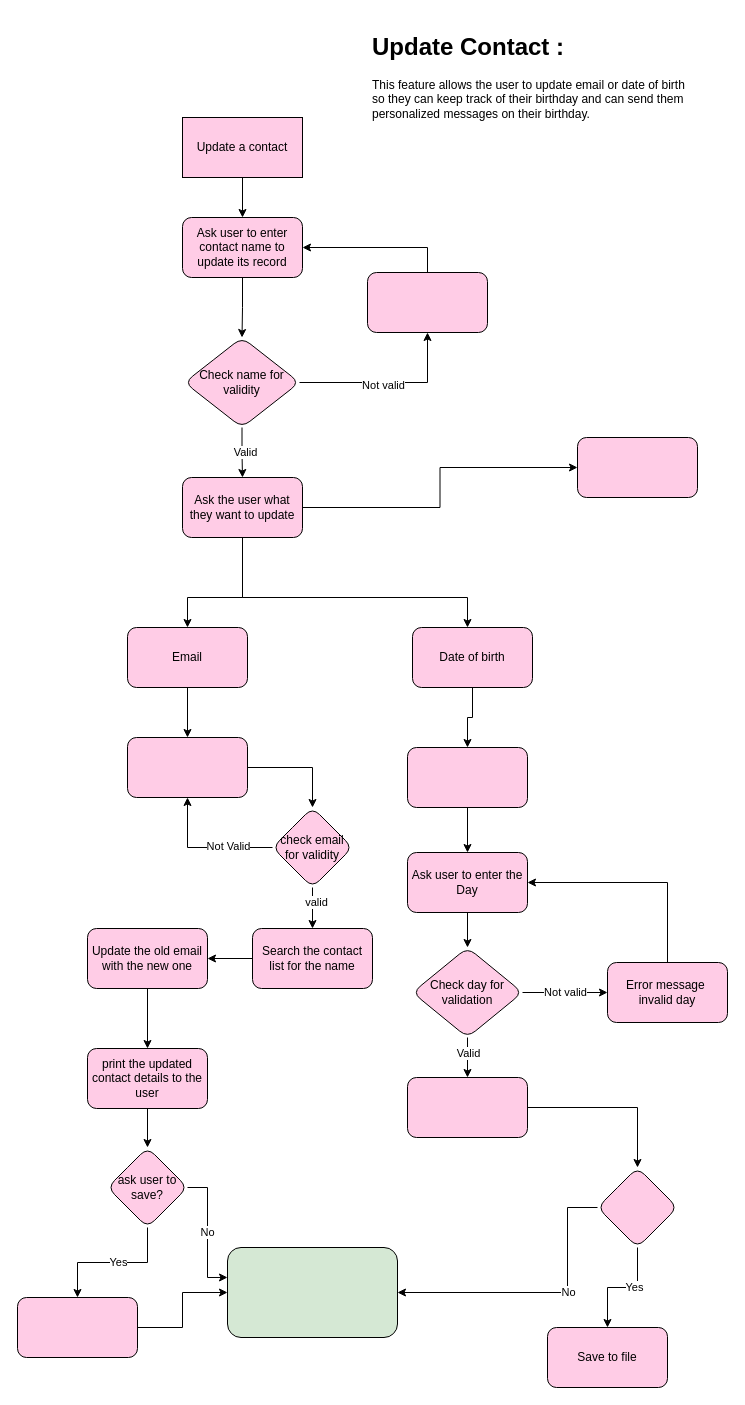
The diagram is 745 pixels wide and 1405 high, and some of its shapes have lost their labels. The centre of each missing label's shape, as x and y in pixels:
"Ask the user to enter email" belongs at (x=187, y=767).
"Ask the user to save?" belongs at (x=637, y=1207).
"Ask user to choose a month" belongs at (x=467, y=777).
"Back to main menu" belongs at (x=312, y=1292).
"Exit to main menu" belongs at (x=637, y=467).
"Print error message" belongs at (x=427, y=302).
"Save to the contact file" belongs at (x=77, y=1327).
"show the contact details" belongs at (x=467, y=1107).
